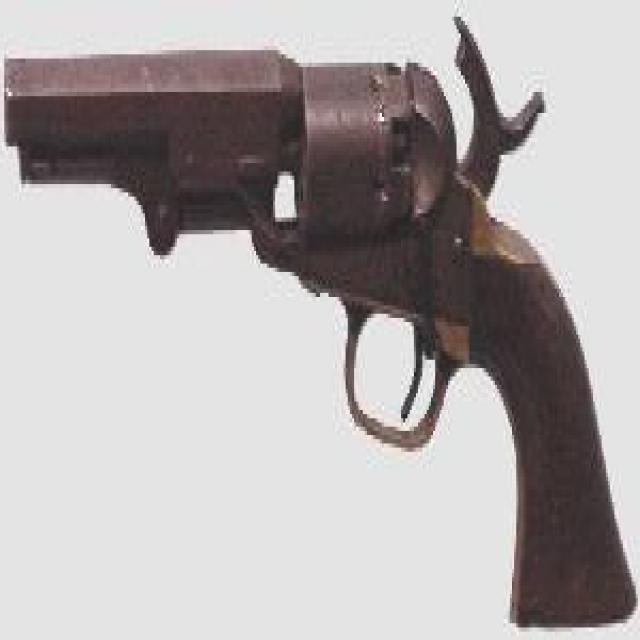pistol: (6, 17, 640, 615)
